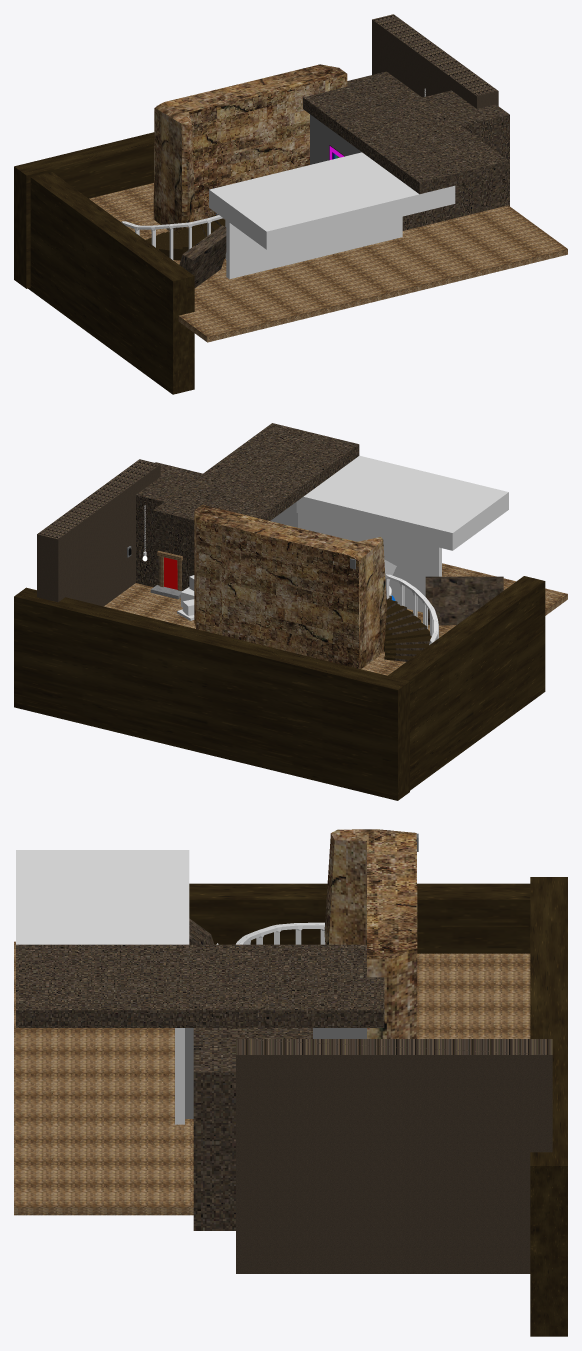
File: teleporter_level.glb
3 views of the same model, one above another, from view 1: azimuth 30°, elevation 25°; view 2: azimuth 150°, elevation 25°; view 3: azimuth 270°, elevation 25° (orthographic). The views are drawn at different scales.
Visible parts, largest first — view 1: floor, SM_Cube4, wall_tele_room_Blueprint.001, Cube, upper_level_floor01_StaticMesh, SM_Cube2, Box_Brush2_StaticMesh, Box_Brush4_StaticMesh1.001, Cube.001, partial_wall.blocking_past_tele_room, wall.for_screen, tele_stairs_StaticMesh (+1 smaller); view 2: SM_Cube2, wall_tele_room_Blueprint.001, SM_Cube4, Cube, upper_level_floor01_StaticMesh, Box_Brush2_StaticMesh, Box_Brush4_StaticMesh1.001, Cube.001, floor, partial_wall.blocking_past_tele_room, tele_stairs_StaticMesh, Circle; view 3: Box_Brush2_StaticMesh, floor, upper_level_floor01_StaticMesh, Cube, SM_Cube4, SM_Cube2, wall_tele_room_Blueprint.001, Box_Brush4_StaticMesh1.001, wall.for_screen, Circle, Cube.001.
Part boxes in pixels (x1,y1,x2,y2): floor: (89,183,567,342); SM_Cube4: (28,172,194,394); wall_tele_room_Blueprint.001: (153,64,347,230); Cube: (209,152,455,249); upper_level_floor01_StaticMesh: (303,71,508,194); SM_Cube2: (14,132,154,288); Box_Brush2_StaticMesh: (372,14,498,108); Box_Brush4_StaticMesh1.001: (402,90,509,230); Cube.001: (226,216,402,279); partial_wall.blocking_past_tele_room: (179,225,226,287); wall.for_screen: (310,114,361,164); tele_stairs_StaticMesh: (146,214,225,260); SM_Cube2: (14,587,409,800); wall_tele_room_Blueprint.001: (194,504,386,669); SM_Cube4: (388,576,545,790); Cube: (296,455,508,550); upper_level_floor01_StaticMesh: (153,423,359,531); Box_Brush2_StaticMesh: (37,459,160,606); Box_Brush4_StaticMesh1.001: (136,462,202,590); Cube.001: (298,513,441,612); floor: (104,563,567,675); partial_wall.blocking_past_tele_room: (425,576,503,625); tele_stairs_StaticMesh: (384,599,431,661); Circle: (385,574,438,644); Box_Brush2_StaticMesh: (236,1039,552,1273); floor: (14,941,530,1215); upper_level_floor01_StaticMesh: (16,944,384,1027); Cube: (16,850,189,944); SM_Cube4: (189,883,530,953); SM_Cube2: (530,877,567,1336); wall_tele_room_Blueprint.001: (324,829,417,1038); Box_Brush4_StaticMesh1.001: (193,1028,312,1230); wall.for_screen: (185,1028,366,1118); Circle: (236,922,325,944); Cube.001: (175,1028,184,1124).
Size of what is drawn, in the model's own units: 36.32 by 17.06 by 29.43.
24 materials, 10 textured.
